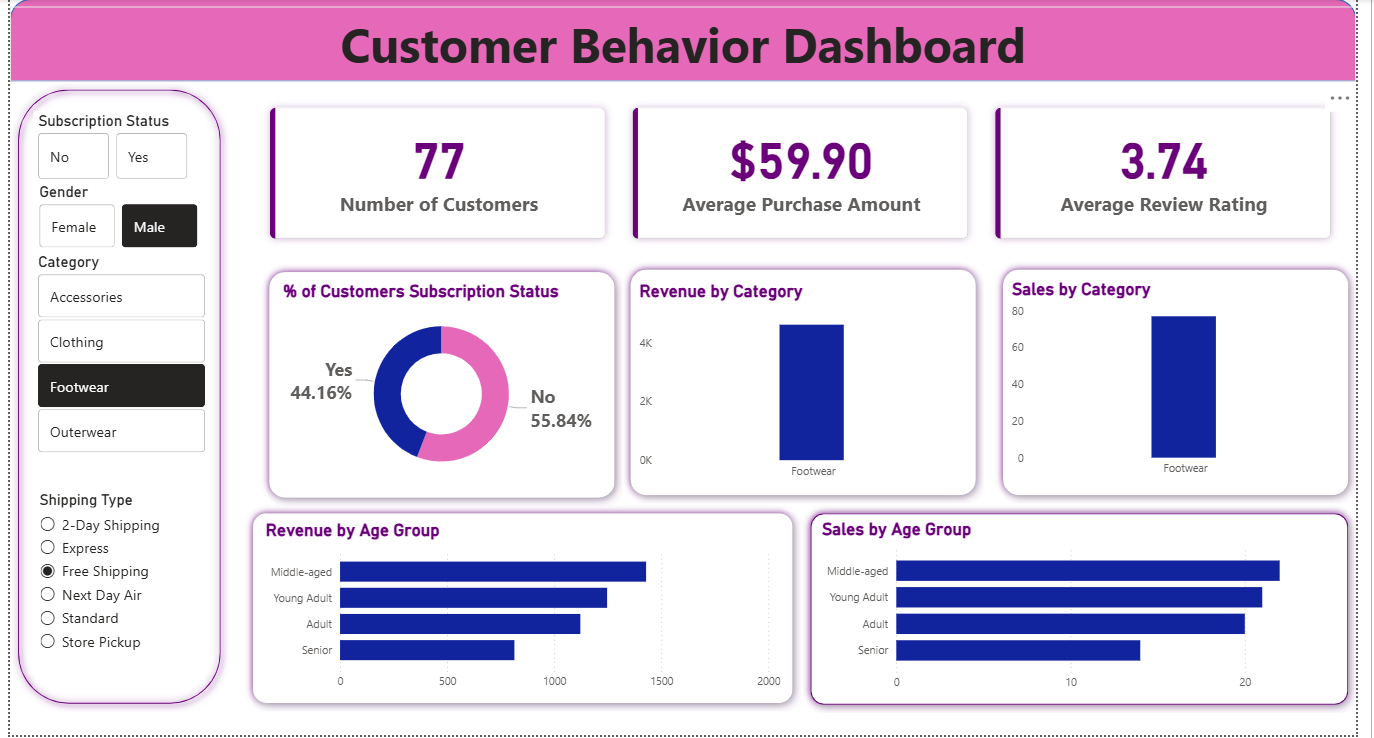

The page's visual inventory and layout, read from the dashboard file:
{"tool":"powerbi","page":{"name":"Page 1","canvas":[1500,820],"ordinal":0},"visuals":[{"type":"cardVisual","fields":{"Data":["customer_behavior customer.Number of Customers","customer_behavior customer.Average Purchase Amount","customer_behavior customer.Average Review Rating"]},"box":[262.2,93.1,1238.1,202],"z":0},{"type":"shape","box":[0,0,1499.9,91.9],"z":1000},{"type":"textbox","box":[0,8.4,1499.9,83.6],"z":2000},{"type":"shape","box":[279.4,295.2,402.7,269.4],"z":3000},{"type":"donutChart","title":"% of Customers Subscription Status","fields":{"Category":["customer_behavior customer.subscription_status"],"Series":["customer_behavior customer.subscription_status"],"Y":["CountNonNull(customer_behavior customer.customer_id)"]},"box":[299.5,315.2,362.5,229.3],"z":4000},{"type":"shape","box":[682.1,292.3,402.7,269.4],"z":5000},{"type":"shape","box":[1097.6,292.3,402.7,269.4],"z":6000},{"type":"clusteredColumnChart","title":"Revenue by Category","fields":{"Y":["Sum(customer_behavior customer.purchase_amount)"],"Category":["customer_behavior customer.category"]},"box":[696.4,315.2,374,229.3],"z":7000},{"type":"clusteredColumnChart","title":"Sales by Category","fields":{"Y":["CountNonNull(customer_behavior customer.customer_id)"],"Category":["customer_behavior customer.category"]},"box":[1112,312.4,374,229.3],"z":8000},{"type":"shape","box":[0,91.7,243.6,702.1],"z":9000},{"type":"advancedSlicerVisual","fields":{"Values":["customer_behavior customer.subscription_status"]},"box":[25.8,124.7,177.7,80.2],"z":10000},{"type":"advancedSlicerVisual","fields":{"Values":["customer_behavior customer.gender"]},"box":[27.2,204.9,187.7,77.4],"z":11000},{"type":"advancedSlicerVisual","fields":{"Values":["customer_behavior customer.category"]},"box":[25.8,282.3,196.3,227.8],"z":12000},{"type":"listSlicer","fields":{"Values":["customer_behavior customer.shipping_type"]},"box":[27.2,547.4,189.1,214.9],"z":13000},{"type":"shape","box":[262.2,564.6,619,229.3],"z":14000},{"type":"clusteredBarChart","title":"Revenue by Age Group","fields":{"Y":["Sum(customer_behavior customer.purchase_amount)"],"Category":["customer_behavior customer.age_group"]},"box":[279.4,580.3,583.2,197.7],"z":15000},{"type":"shape","box":[883,564,617,231.2],"z":16000},{"type":"clusteredBarChart","title":"Sales by Age Group","fields":{"Y":["CountNonNull(customer_behavior customer.customer_id)"],"Category":["customer_behavior customer.age_group"]},"box":[899.2,579.7,585.4,199.8],"z":17000}]}

Visuals, with their boxes in screenshot pixels (x1, y1, x2, y2), scaled from the page's 1500x820 canvas onto the 1374x738 screenshot:
cardVisual - customer_behavior customer.Number of Customers x customer_behavior customer.Average Purchase Amount: bbox=(240, 84, 1373, 266)
shape: bbox=(0, 0, 1373, 83)
textbox: bbox=(0, 8, 1373, 83)
shape: bbox=(256, 266, 625, 508)
"% of Customers Subscription Status" donutChart: bbox=(274, 284, 606, 490)
shape: bbox=(625, 263, 994, 506)
shape: bbox=(1005, 263, 1373, 506)
"Revenue by Category" clusteredColumnChart: bbox=(638, 284, 980, 490)
"Sales by Category" clusteredColumnChart: bbox=(1019, 281, 1361, 488)
shape: bbox=(0, 83, 223, 714)
advancedSlicerVisual - customer_behavior customer.subscription_status: bbox=(24, 112, 186, 184)
advancedSlicerVisual - customer_behavior customer.gender: bbox=(25, 184, 197, 254)
advancedSlicerVisual - customer_behavior customer.category: bbox=(24, 254, 203, 459)
listSlicer - customer_behavior customer.shipping_type: bbox=(25, 493, 198, 686)
shape: bbox=(240, 508, 807, 715)
"Revenue by Age Group" clusteredBarChart: bbox=(256, 522, 790, 700)
shape: bbox=(809, 508, 1373, 716)
"Sales by Age Group" clusteredBarChart: bbox=(824, 522, 1360, 702)
